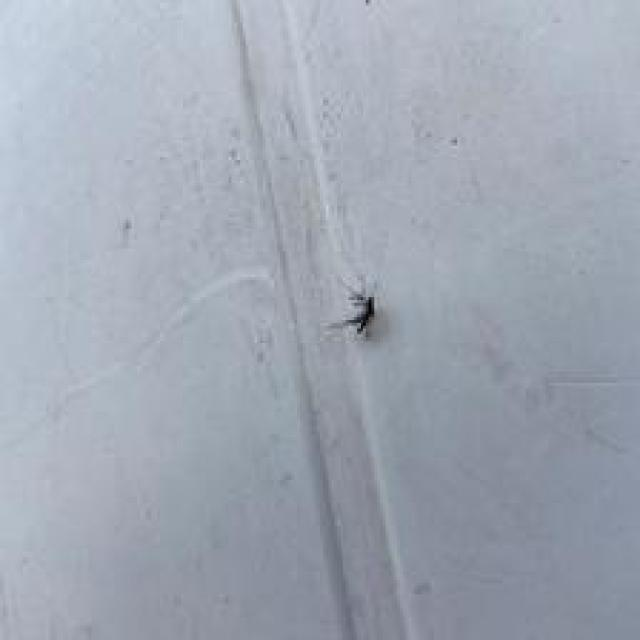Aedes albopictus: (327, 290, 376, 339)
